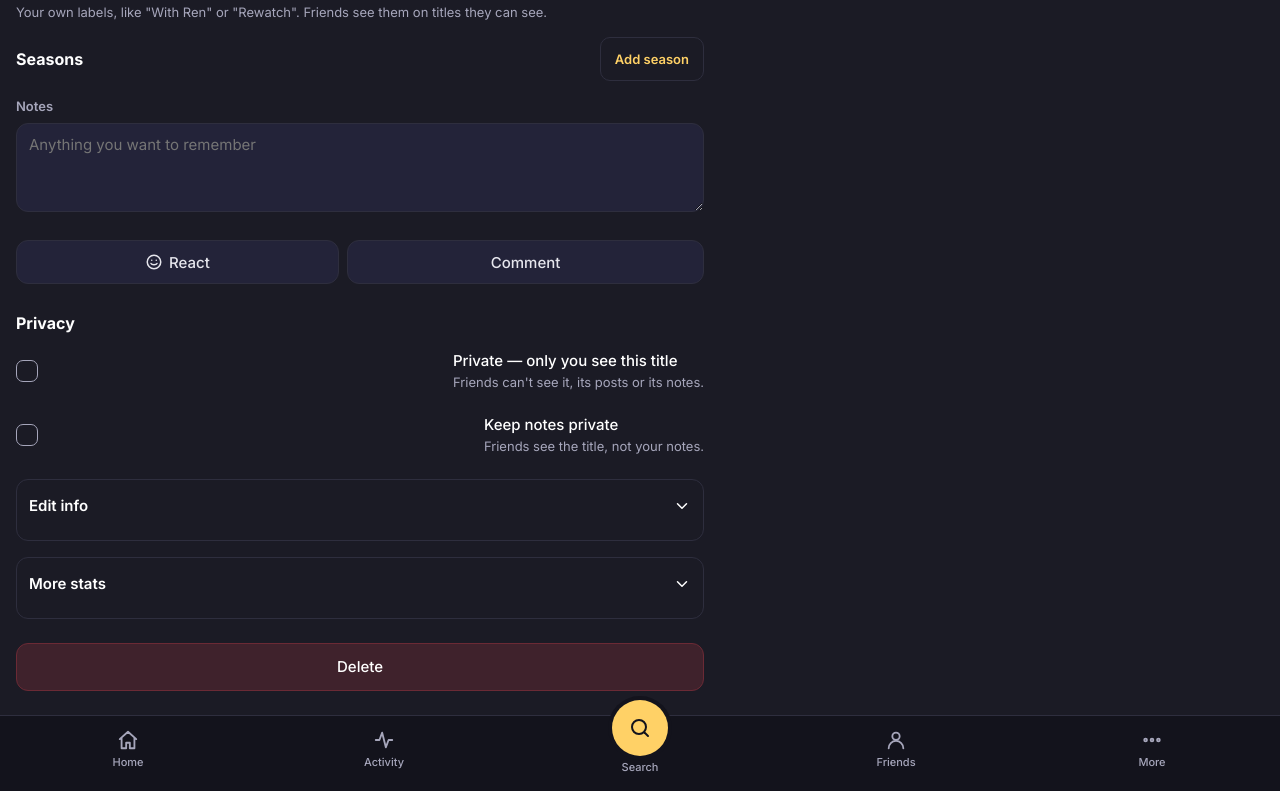
Test: entry details: number-first rating tile (Rulings N1, N6, N8) › Edit info drop-down › the edit fields sit in a closed "Edit info" drop-down that opens on tap
The image size is (1280, 791).
(page scrolled)
Click the heading "Edit info" at (59, 506), box [29,496,691,515]
(page scrolled)
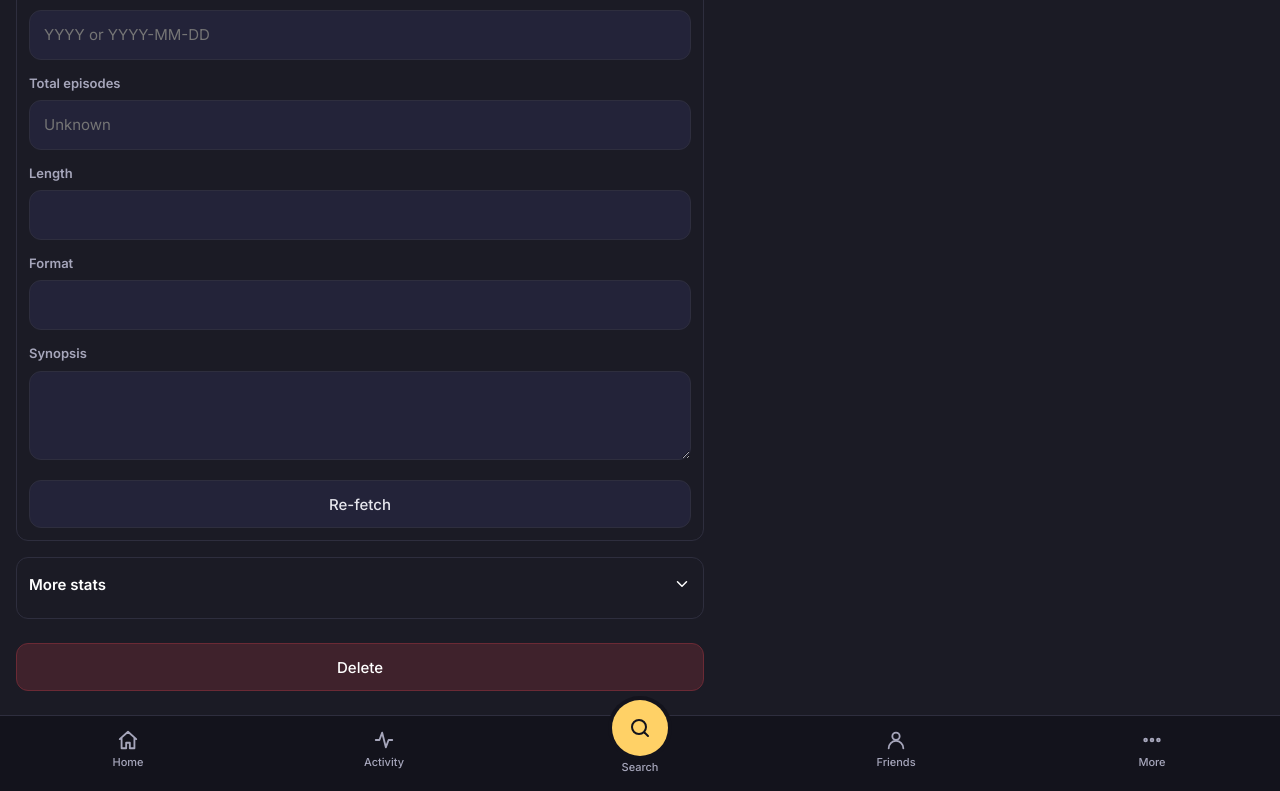
Result: the button "Re-fetch" is shown at [29,480,691,528]
